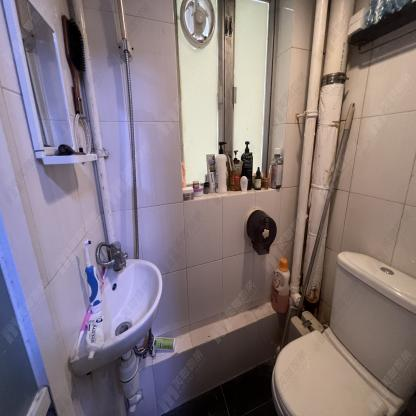Exhaust Fan: (180, 0, 217, 53)
Toilet: (272, 250, 416, 416)
Toilet Sink: (69, 257, 163, 377)
